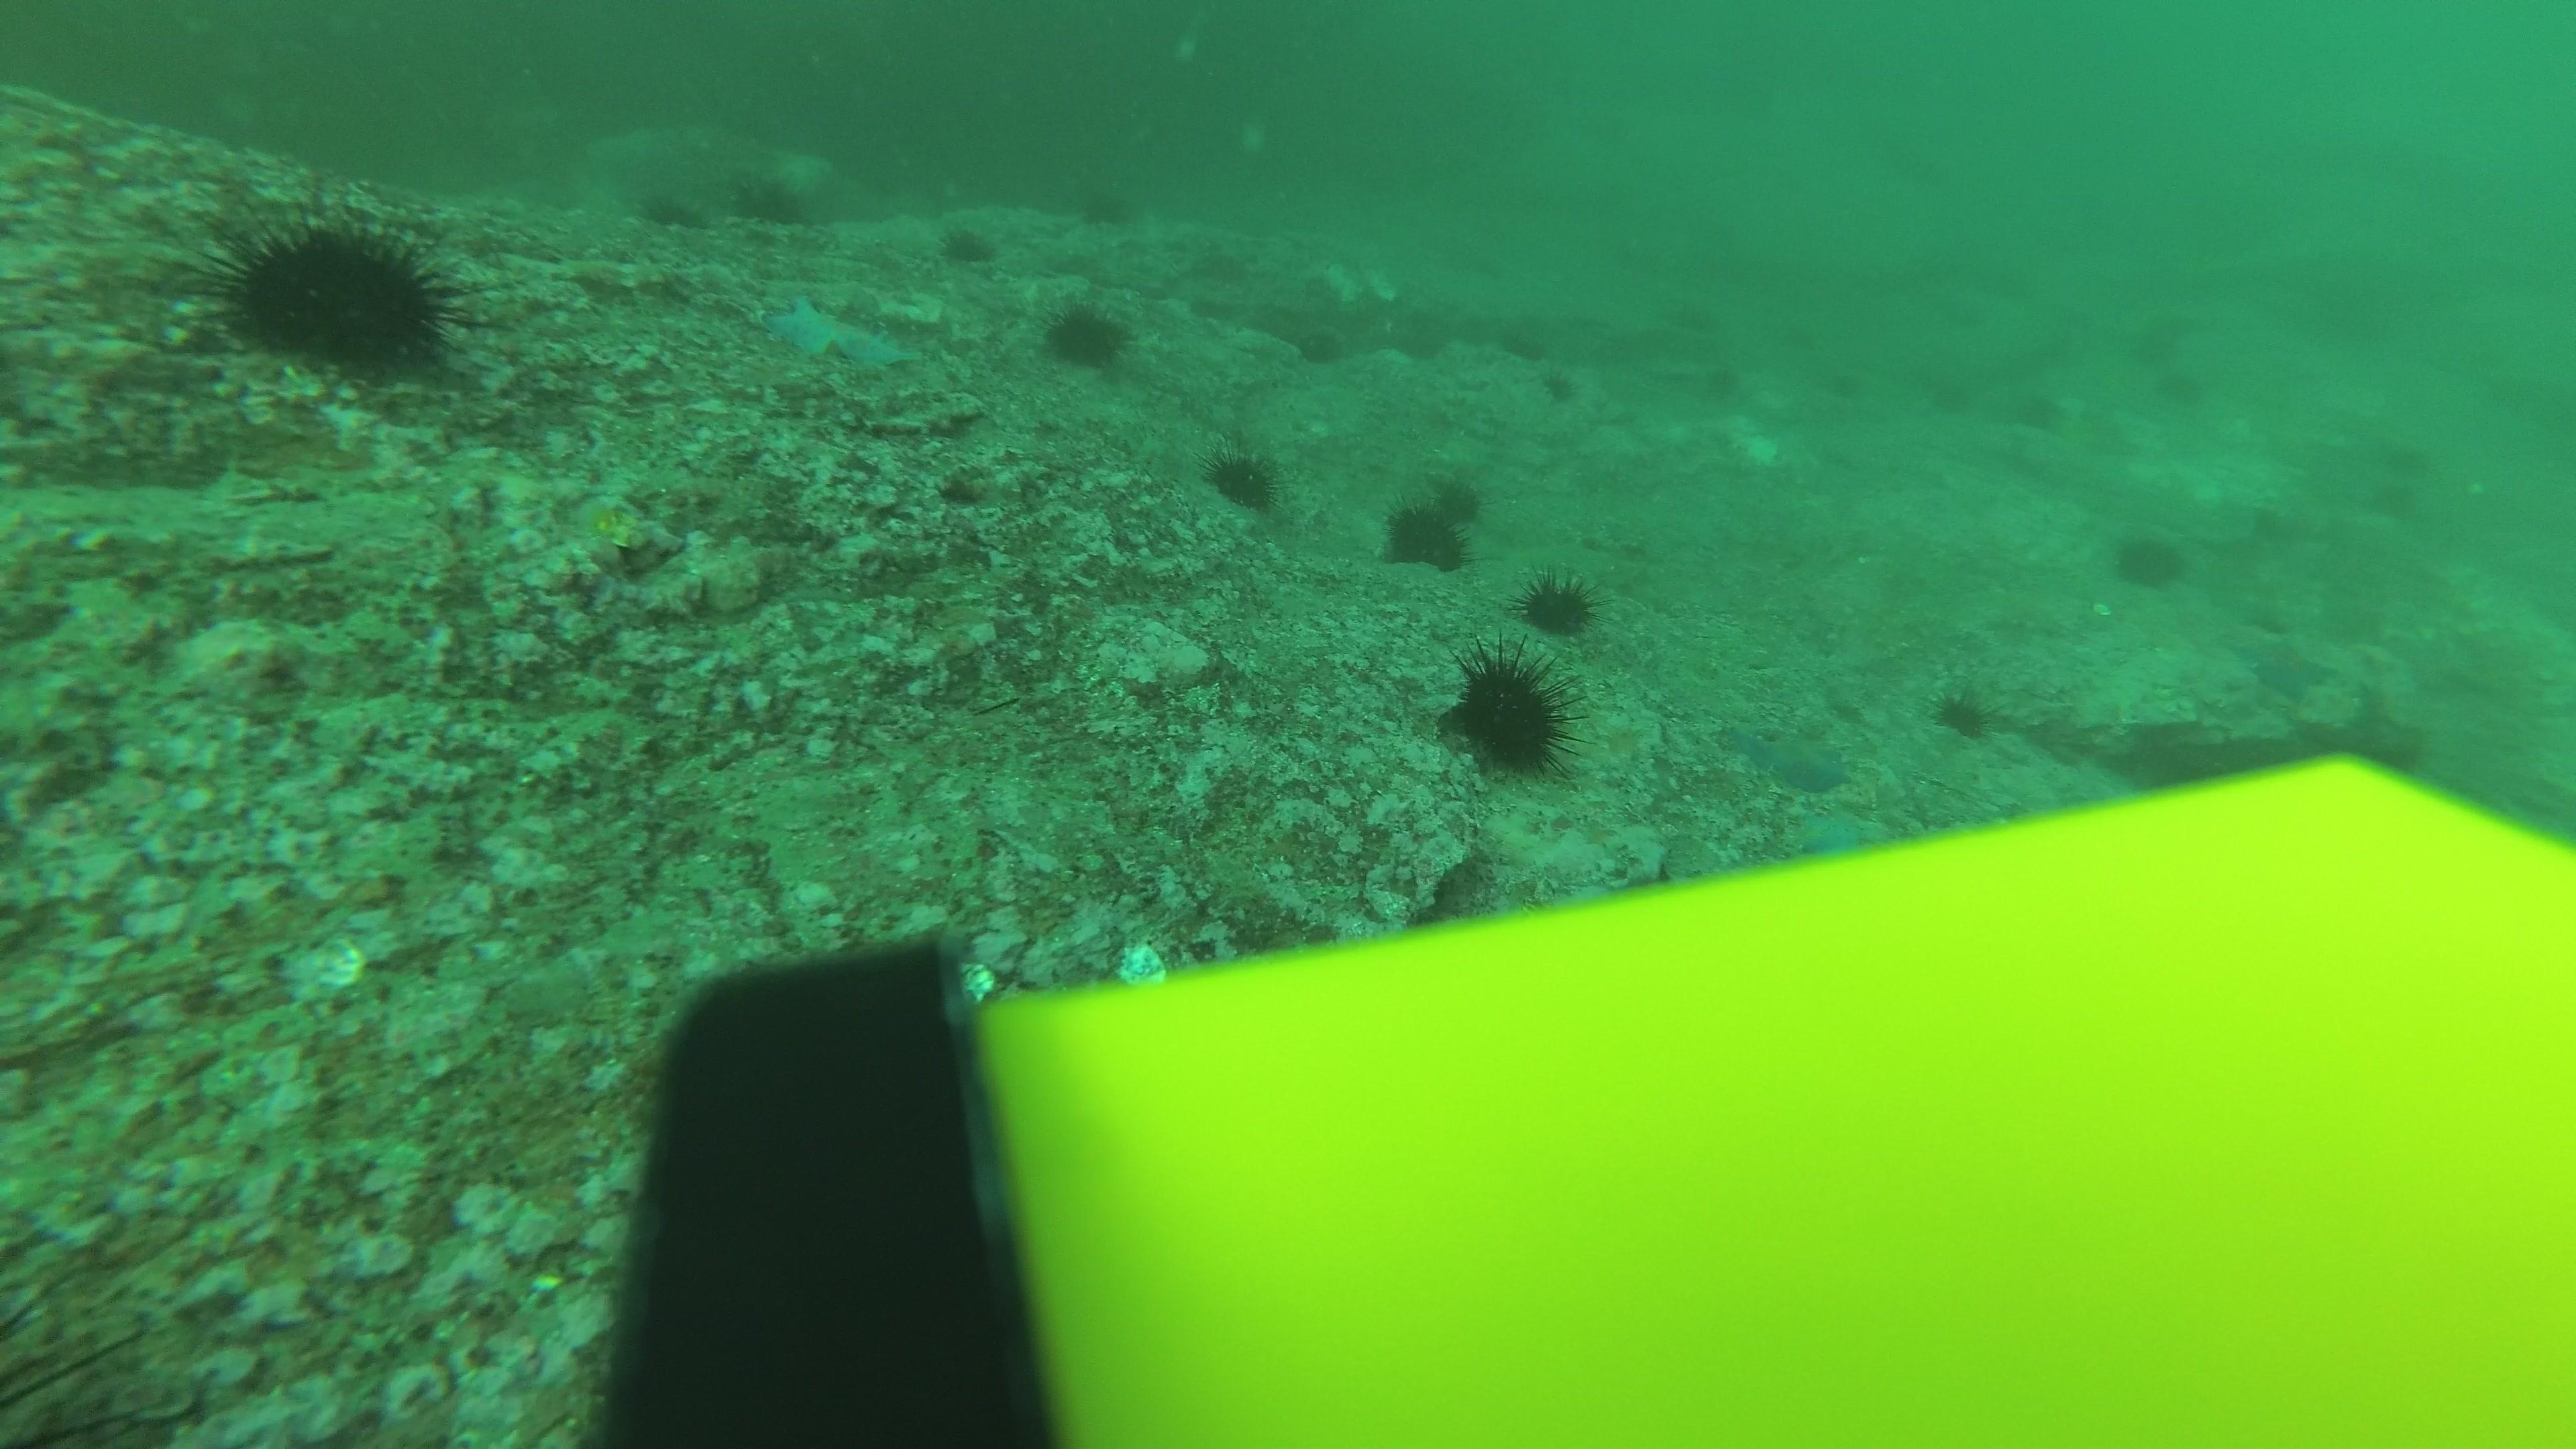echinus: (207, 207, 467, 380), (1442, 644, 1576, 778), (1382, 479, 1479, 571), (1042, 295, 1132, 372), (1518, 566, 1599, 637), (1207, 442, 1283, 511), (1992, 377, 2070, 444), (2150, 361, 2227, 428), (2116, 306, 2194, 373), (2109, 525, 2187, 591), (1905, 363, 1983, 428), (2358, 469, 2436, 534), (2367, 433, 2445, 499), (731, 168, 805, 226), (1930, 681, 1996, 741), (1391, 315, 1447, 375), (1637, 317, 1698, 370), (1675, 288, 1736, 341), (1076, 179, 1136, 230), (633, 186, 697, 232), (938, 219, 996, 269), (1690, 361, 1750, 409), (1500, 318, 1555, 370), (1293, 322, 1348, 368), (1769, 306, 1824, 352), (1536, 364, 1583, 410), (1813, 364, 1863, 409)
starfish: (757, 290, 918, 375), (1721, 717, 1856, 796), (2235, 630, 2337, 702), (1787, 801, 1893, 858)
